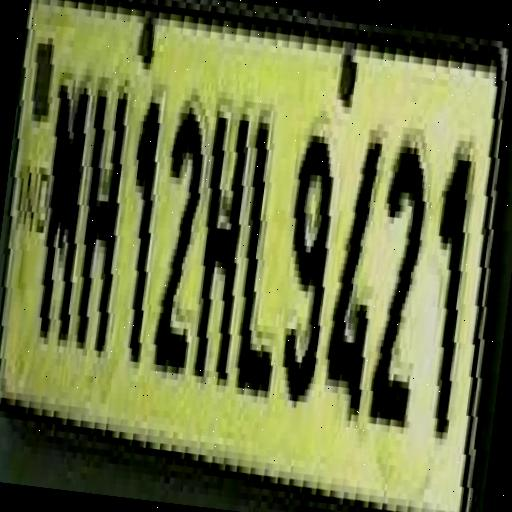number plate: (0, 0, 506, 511)
